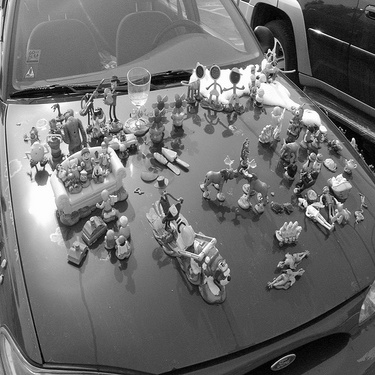car: (1, 2, 372, 371), (230, 1, 371, 124)
